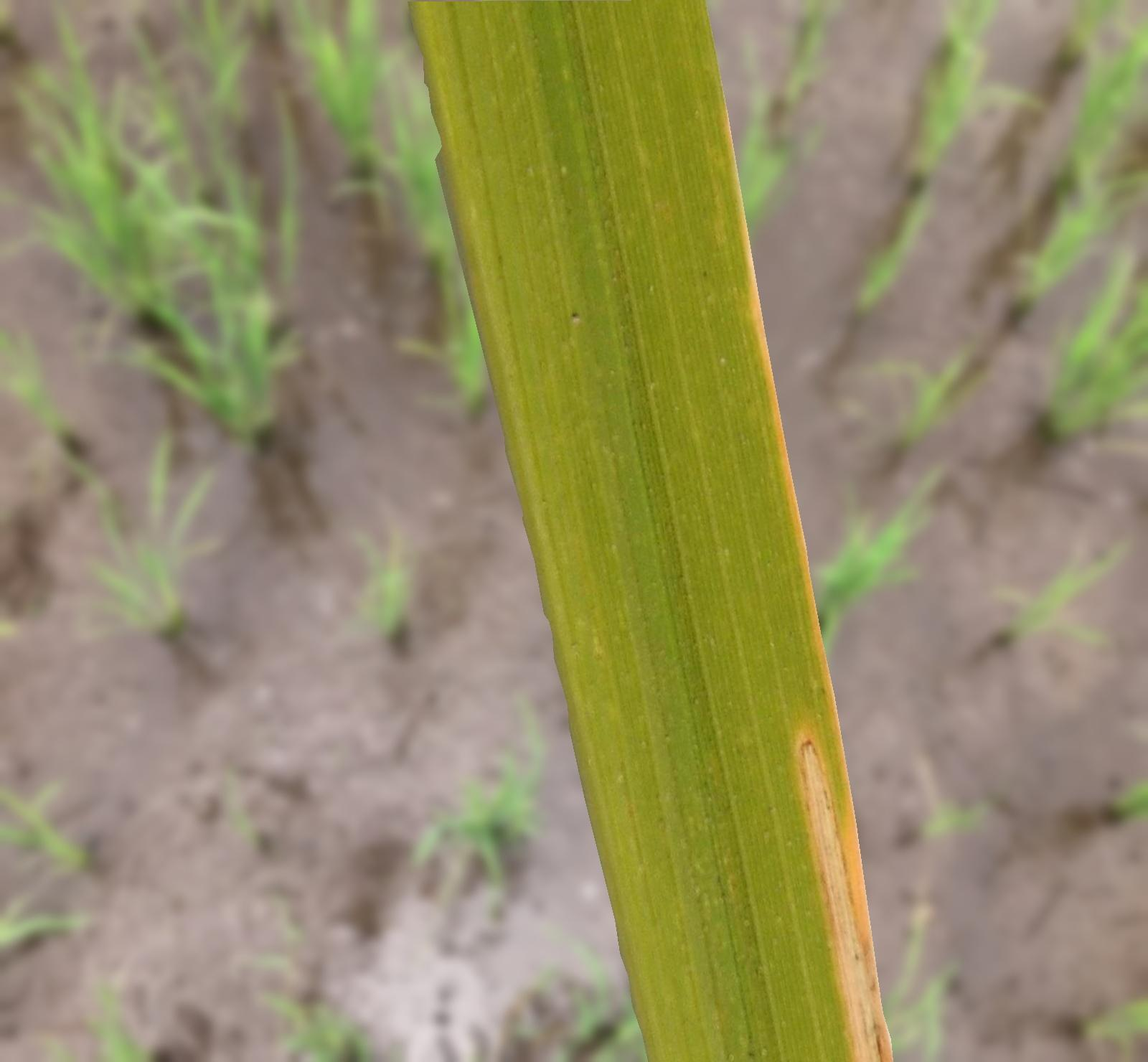BLS: (744, 219, 891, 1061)
LEAF: (408, 0, 893, 1061)
